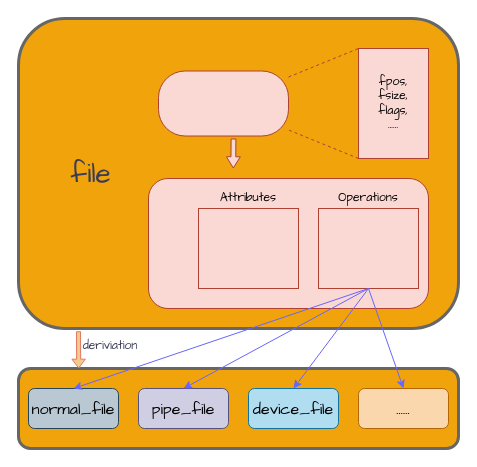
Some shapes in this 477 by 467 pixel diagram are drawn without their labels. Each missing label, with the centre of its shape:
"lwext4_file_struct" belongs at [223,103].
"read, write, lseek ......" belongs at [368,248].
"refcnt, pathname, _file_ptr, flock, ......" belongs at [248,248].
